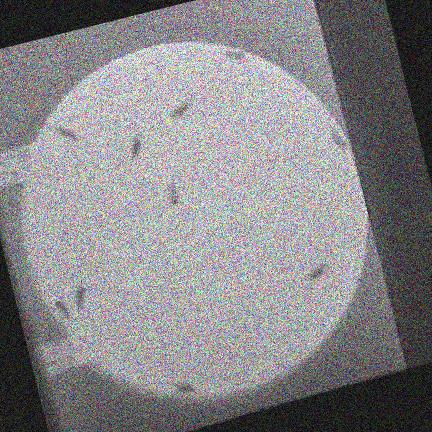fly: (170, 99, 191, 119), (52, 126, 79, 140), (308, 263, 328, 281), (131, 134, 143, 160), (331, 131, 349, 148), (55, 299, 71, 318), (75, 283, 86, 309), (167, 184, 180, 205), (225, 49, 246, 61), (173, 382, 195, 393)
